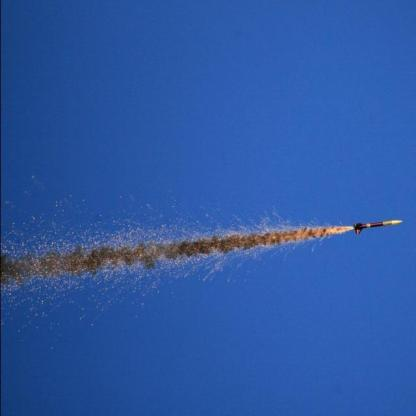MIL_TBM: (354, 216, 403, 232)
